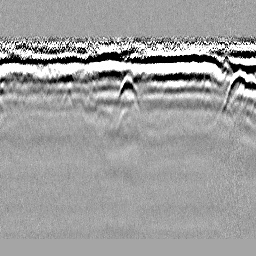cavity: (117, 73, 140, 104)
